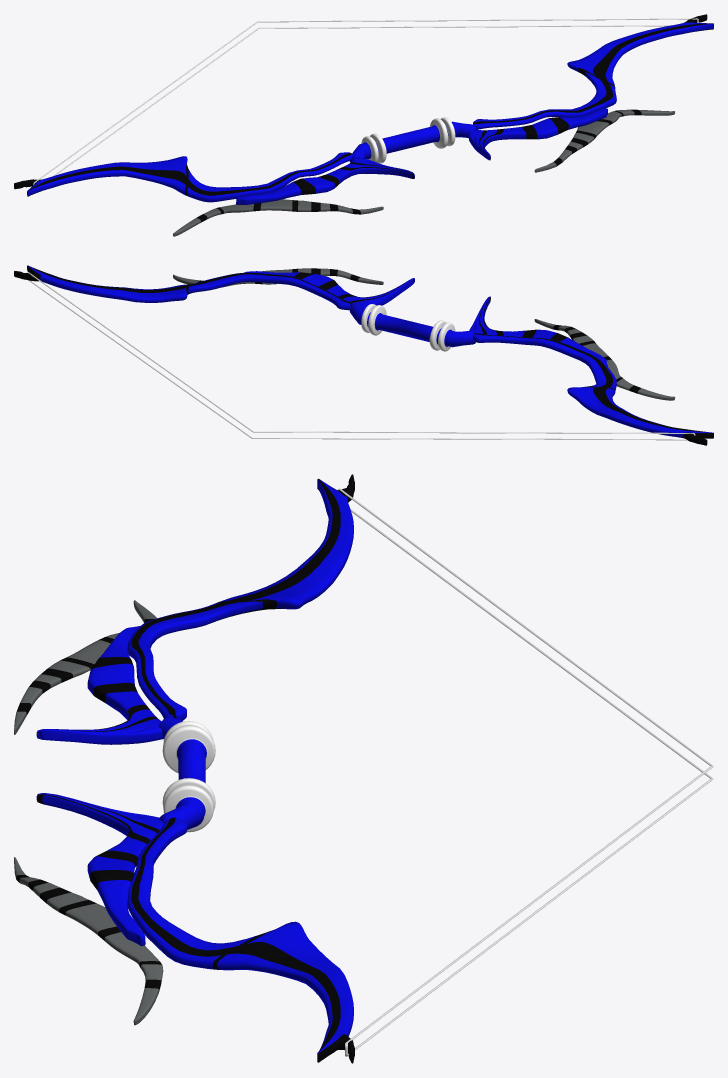
The picture shows the model from 3 angles, top to bottom: view 1: azimuth 30°, elevation 25°; view 2: azimuth 150°, elevation 25°; view 3: azimuth 270°, elevation 25°; orthographic projection. The views are drawn at different scales.
Visible parts, largest first — view 1: 97.3, 97.thirdstep; view 2: 97.3, 97.thirdstep; view 3: 97.3, 97.thirdstep.
Part boxes in pixels (<box>): 97.3: <box>14,14,713,236</box>; 97.thirdstep: <box>33,18,698,185</box>; 97.3: <box>14,265,713,445</box>; 97.thirdstep: <box>26,272,695,440</box>; 97.3: <box>14,474,354,1063</box>; 97.thirdstep: <box>338,488,713,1056</box>.
Bounding box in the file's own units: 87.66 × 4.49 × 44.72.
